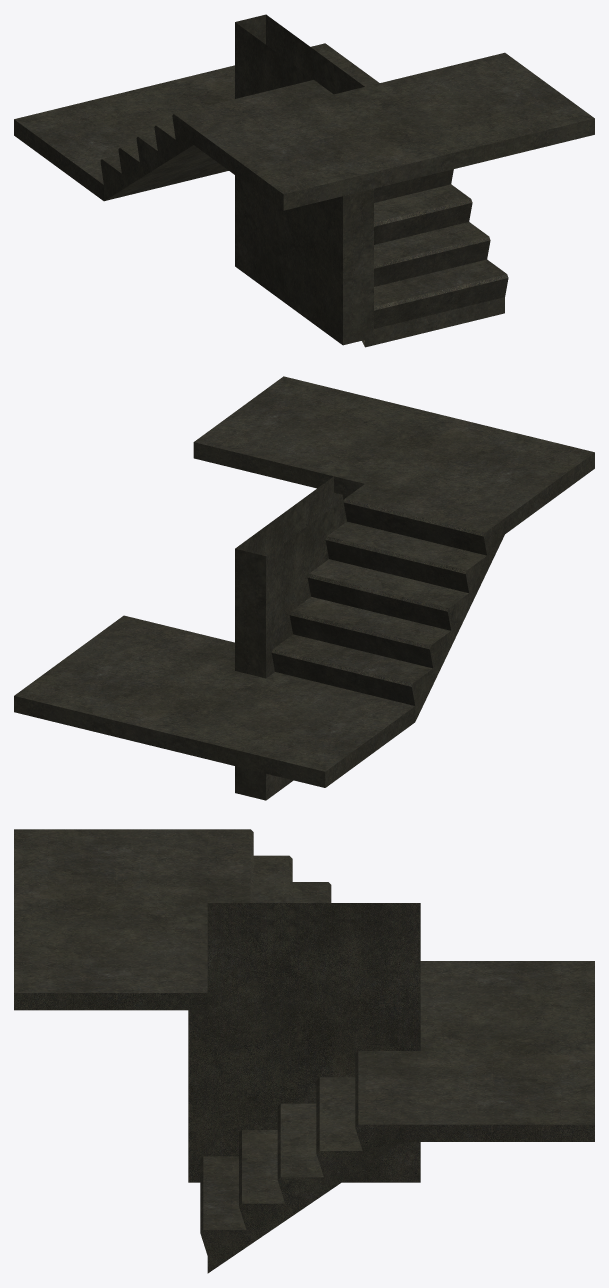
The model's file is stairs_mp_1.glb.
3 views of the same model, one above another, from view 1: azimuth 30°, elevation 25°; view 2: azimuth 150°, elevation 25°; view 3: azimuth 270°, elevation 25° (orthographic). The views are drawn at different scales.
Visible parts, largest first — view 1: stairs_mp_1; view 2: stairs_mp_1; view 3: stairs_mp_1.
Boxes of the visible parts, bbox=[...] form: stairs_mp_1: bbox=[14, 14, 594, 347]; stairs_mp_1: bbox=[14, 376, 594, 800]; stairs_mp_1: bbox=[14, 829, 594, 1273].
Bounding box in the file's own units: 4 × 3.2 × 6.
Materials: 1 (1 with a texture image).
